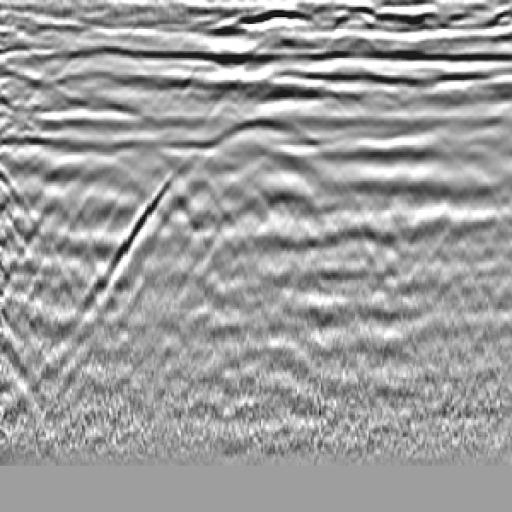non-metallic: (101, 114, 394, 356)
